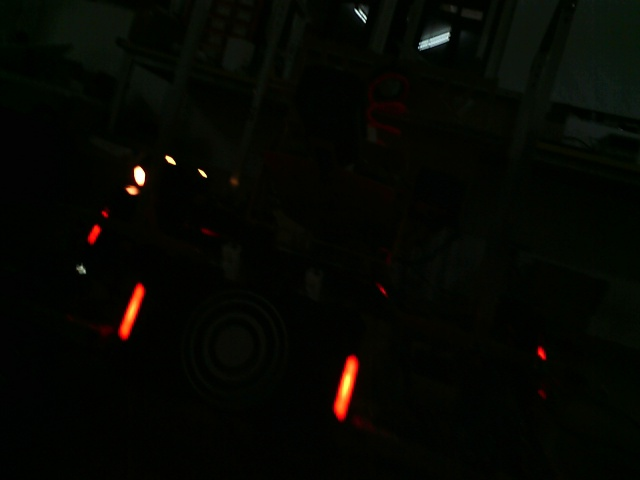lamp: (329, 350, 361, 424), (118, 281, 145, 342)
